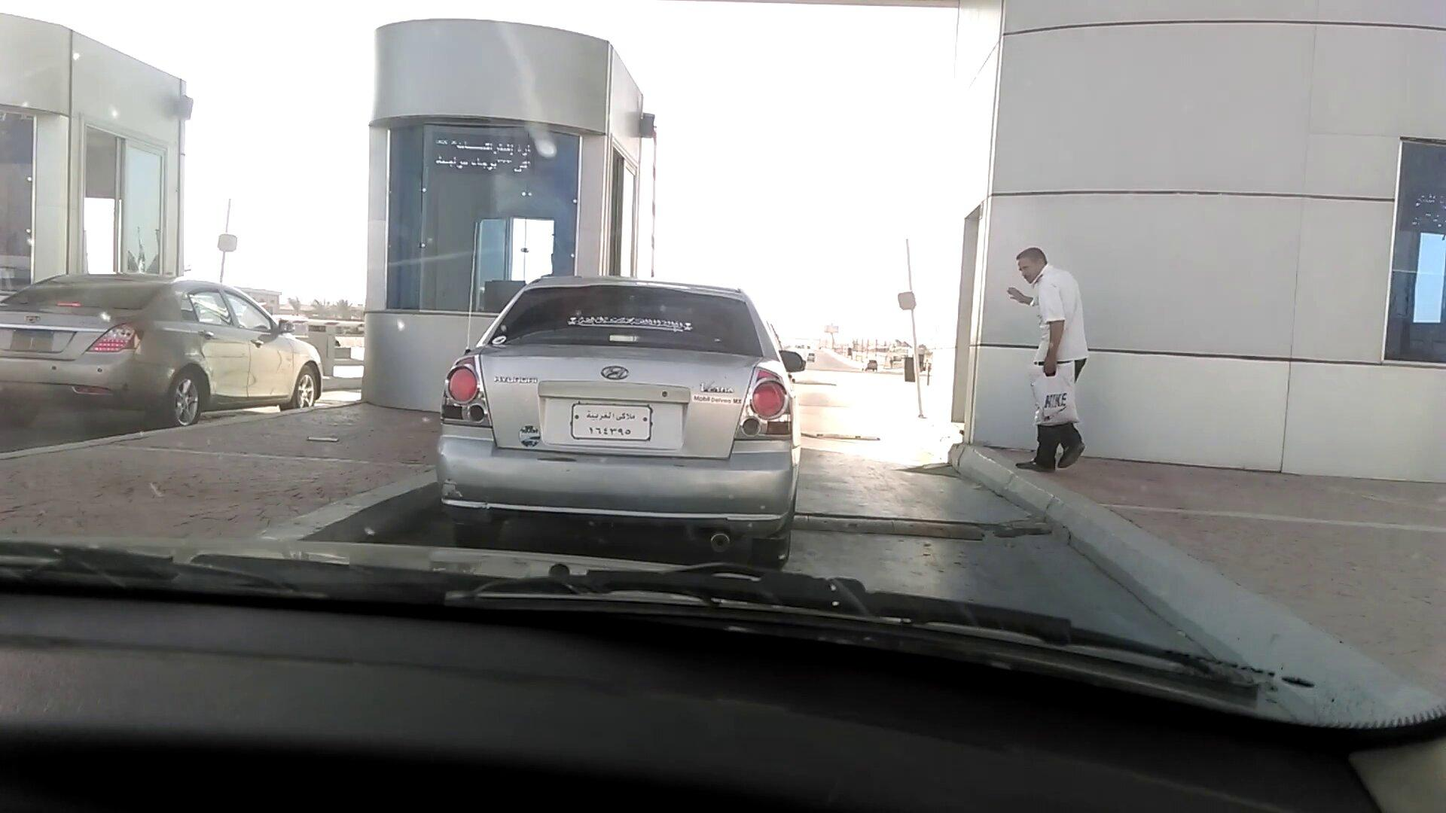Bump: (791, 508, 1017, 546)
